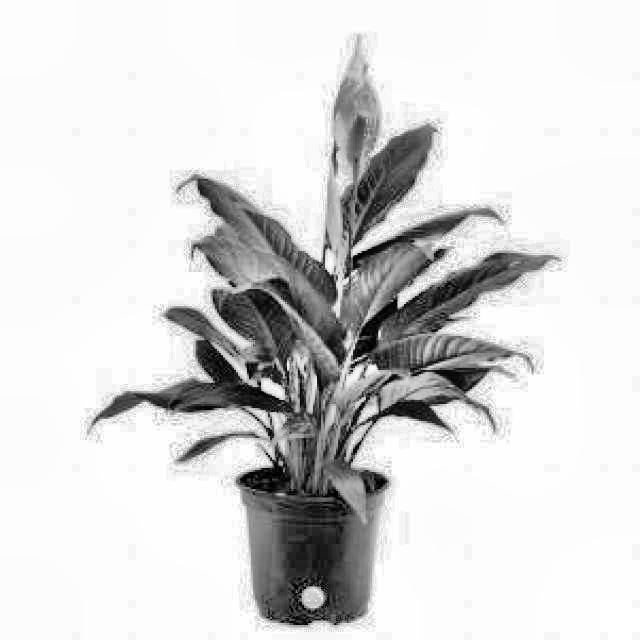plants: (110, 34, 551, 615)
